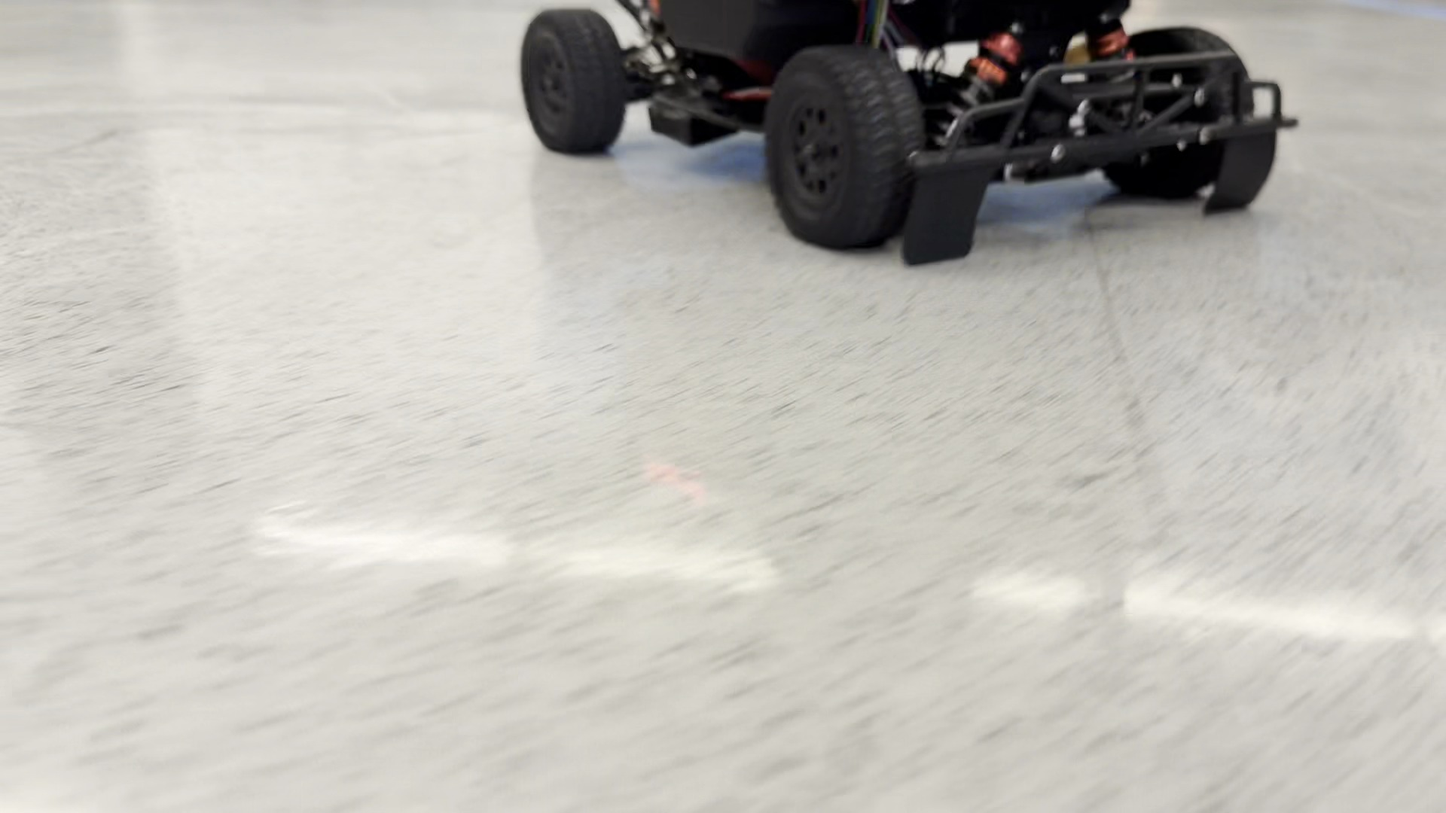racecar: (515, 0, 1302, 273)
